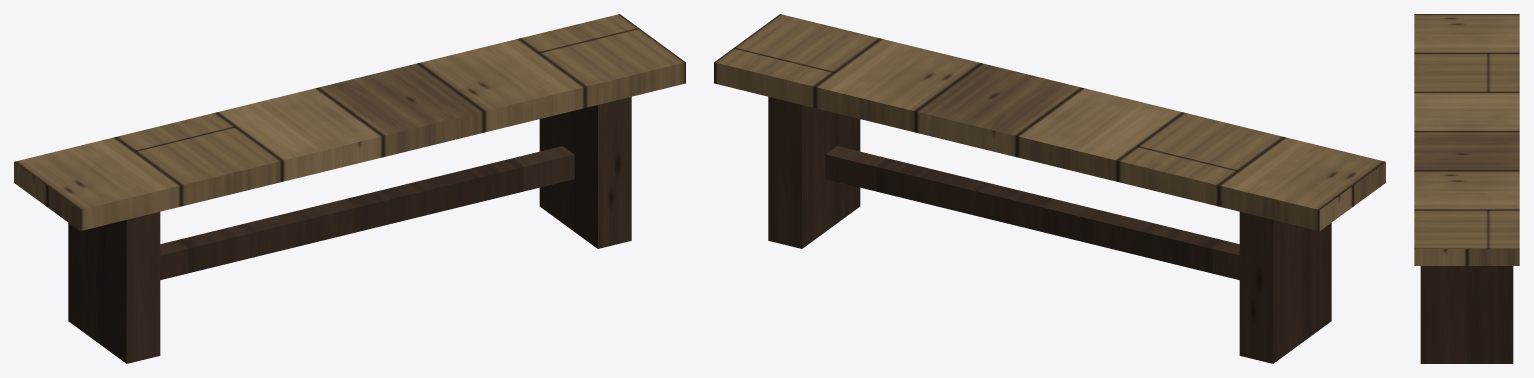
File: bench.gltf
3 renders of one model, left to right at view 1: azimuth 30°, elevation 25°; view 2: azimuth 150°, elevation 25°; view 3: azimuth 270°, elevation 25°, orthographic. The views are drawn at different scales.
Visible parts, largest first — view 1: bench_mesh; view 2: bench_mesh; view 3: bench_mesh.
Boxes of the visible parts, box(x1,y1,x2,y2) form: bench_mesh: box(14, 14, 685, 363); bench_mesh: box(714, 14, 1385, 363); bench_mesh: box(1414, 14, 1519, 363).
Size of what is drawn, in the model's own units: 1.8 by 0.48 by 0.34.
2 materials, 2 textured.
